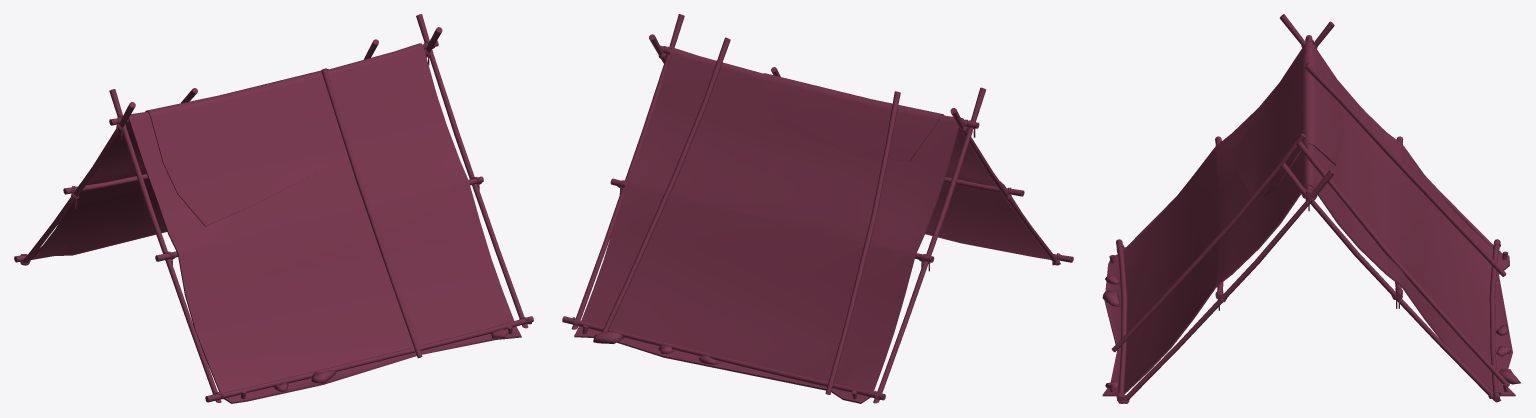
Rendered from mw_camp_tent.FBX.
3 views of the same model, side by side, from view 1: azimuth 30°, elevation 25°; view 2: azimuth 150°, elevation 25°; view 3: azimuth 270°, elevation 25° (orthographic).
Parts seen in each view (by area): view 1: mw_camp_tent; view 2: mw_camp_tent; view 3: mw_camp_tent.
Part boxes in pixels (x1,y1,x2,y2): mw_camp_tent: (14, 14, 533, 403); mw_camp_tent: (562, 14, 1073, 403); mw_camp_tent: (1102, 14, 1520, 403).
Size of the model in its own units: 339 by 242 by 382.
